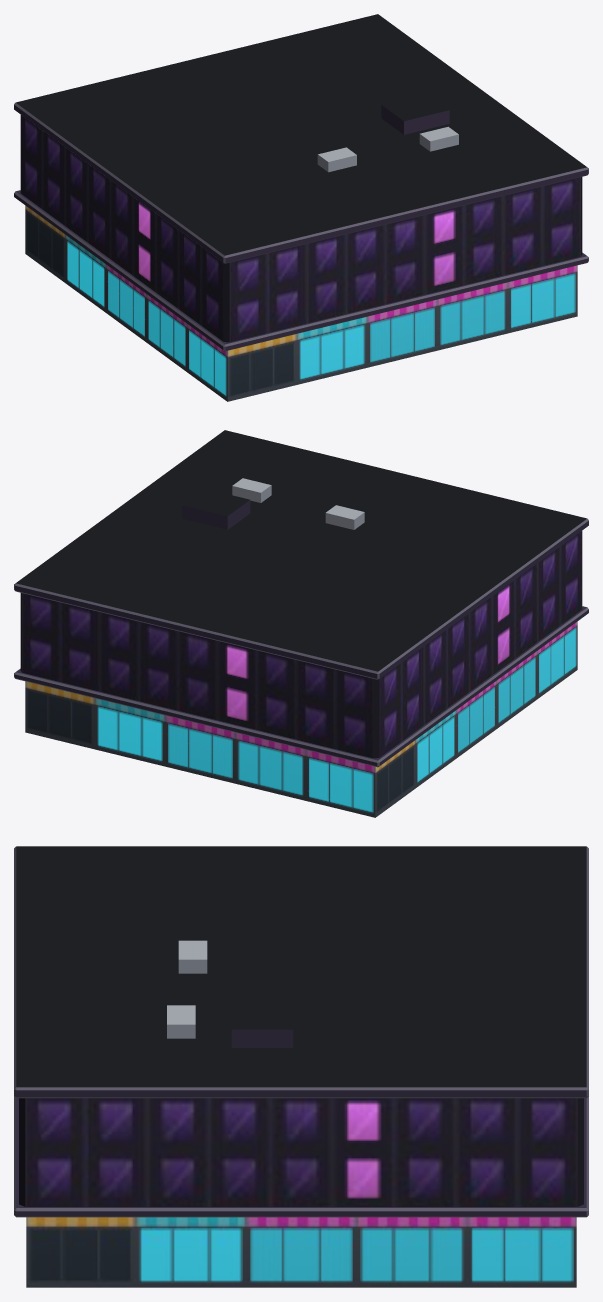
File: building-28x28x12.glb
The picture shows the model from 3 angles, top to bottom: view 1: azimuth 30°, elevation 25°; view 2: azimuth 150°, elevation 25°; view 3: azimuth 270°, elevation 25°; orthographic projection. The views are drawn at different scales.
Visible parts, largest first — view 1: building-28x28x12; view 2: building-28x28x12; view 3: building-28x28x12.
Part boxes in pixels (x1,y1,x2,y2): building-28x28x12: (14, 14, 588, 401); building-28x28x12: (14, 430, 588, 817); building-28x28x12: (14, 846, 588, 1287).
Size of the model in its own units: 28 by 12 by 28.
Materials: 1 (1 with a texture image).
